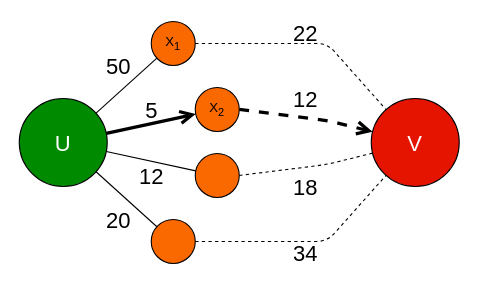
Some shapes in this 479 by 284 pixel diagram are drawn without their labels. Each missing label, with the box of its shape:
X 3: (194, 152, 239, 197)
X 4: (150, 218, 195, 263)
